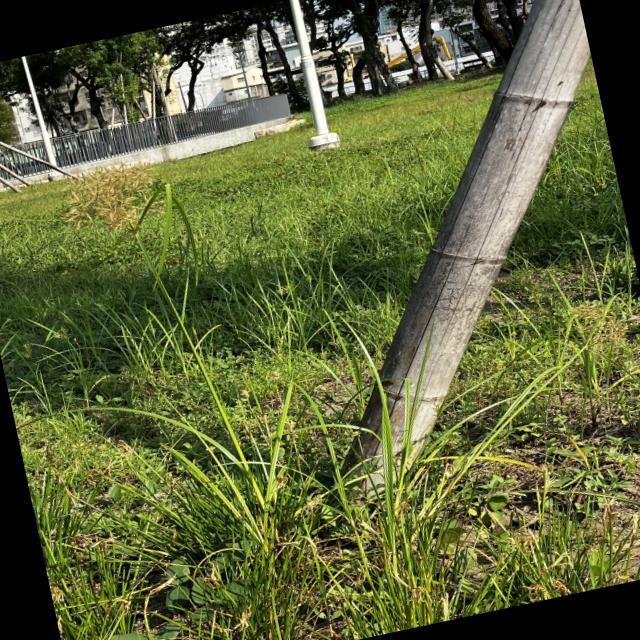cyperus: (49, 152, 168, 246), (568, 293, 632, 356), (273, 278, 297, 300), (48, 325, 72, 346)
